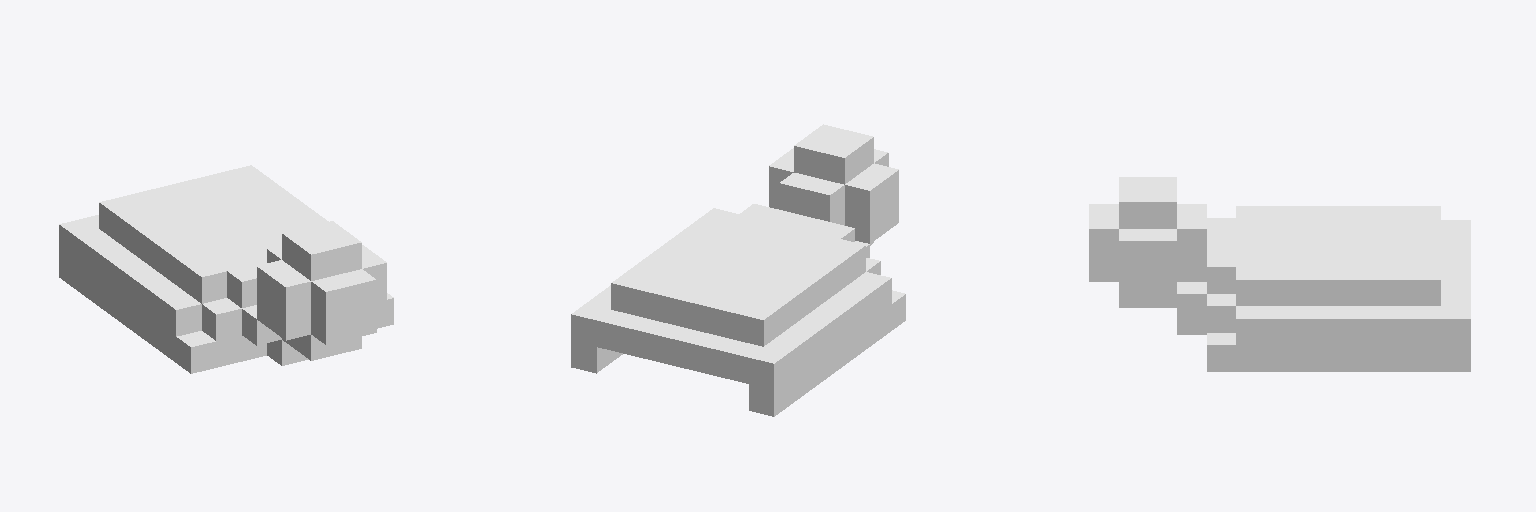
File: Hair4.obj
3 renders of one model, left to right at view 1: azimuth 30°, elevation 25°; view 2: azimuth 150°, elevation 25°; view 3: azimuth 270°, elevation 25°, orthographic.
Visible parts, largest first — view 1: object 1; view 2: object 1; view 3: object 1.
Part boxes in pixels (x1,y1,x2,y2): object 1: (59,165,393,373); object 1: (571,124,905,416); object 1: (1089,177,1470,371).
Size of the model in its own units: 0.8 by 0.5 by 1.3.